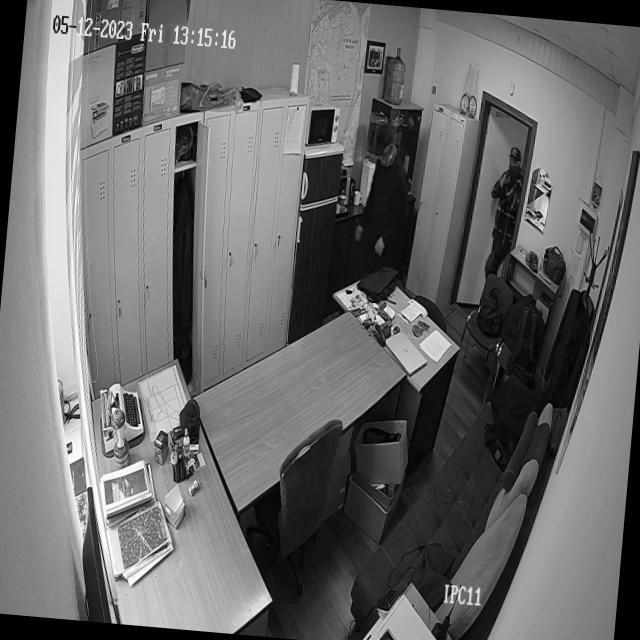gun: (500, 167, 511, 192)
person: (351, 126, 412, 280)
person with a gun: (485, 146, 526, 278)
